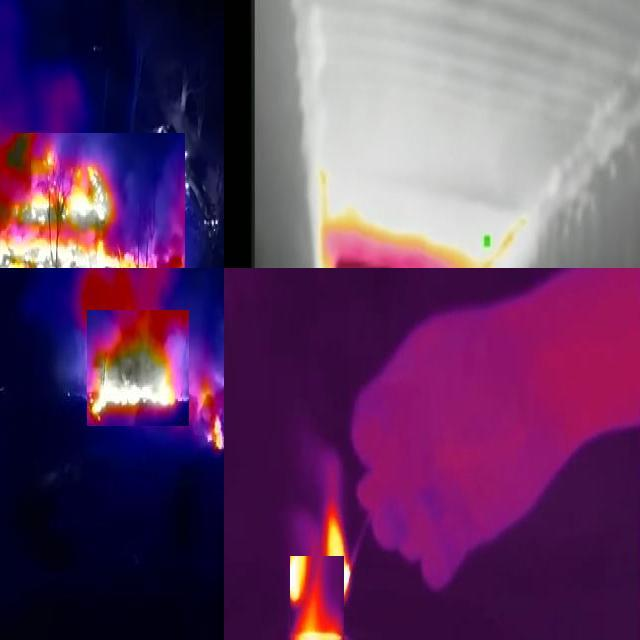fire: (1, 133, 185, 269), (87, 310, 189, 426), (319, 207, 496, 269), (290, 556, 344, 640), (320, 493, 352, 611)
